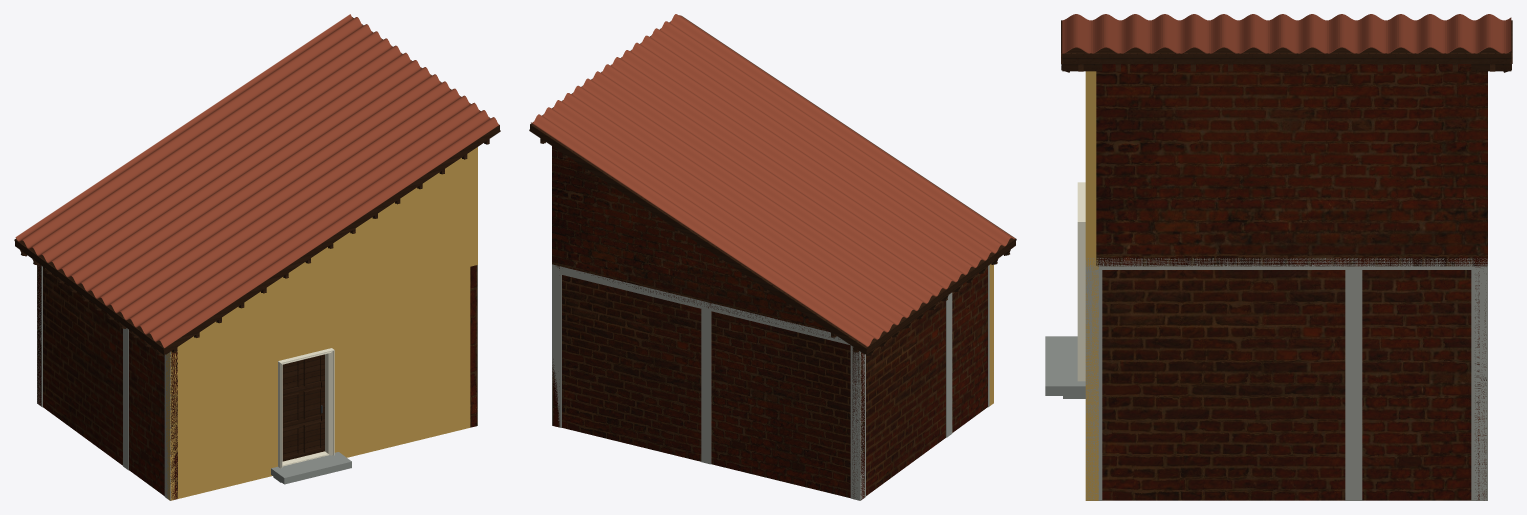
File: building.glb
The picture shows the model from 3 angles, left to right: view 1: azimuth 30°, elevation 25°; view 2: azimuth 150°, elevation 25°; view 3: azimuth 270°, elevation 25°; orthographic projection. The views are drawn at different scales.
Parts seen in each view (by area): view 1: house:0/edge0/z0/house:0/edge0/z0/wall_0_0, roof_assembly/cubierta/roof_gable_closure#0001, house:0/edge3/z0/house:0/edge3/z0/wall_0_0, roof_assembly/cubierta/roof_fascia#0002, site/entrance/0/entrance_step#0002, house:0/edge1/z0/house:0/edge1/z0/wall_0_0, roof_assembly/cubierta/roof_fascia#0001, house:0/edge3/z0/house:0/edge3/z0/column_1_0, house:0/edge3/z0/house:0/edge3/z0/column_2_0, house:0/edge0/z0/opening_u2.80_v0.12/door_panel_back#0001, house:0/edge0/z0/opening_u2.80_v0.12/door_reveal#0001, house:0/edge2/z0/house:0/edge2/z0/wall_0_0 (+2 smaller); view 2: house:0/edge2/z0/house:0/edge2/z0/wall_0_0, house:0/edge3/z0/house:0/edge3/z0/wall_0_0, roof_assembly/cubierta/roof_gable_closure#0003, roof_assembly/cubierta/roof_fascia#0004, house:0/edge2/z0/house:0/edge2/z0/beam_0_0, house:0/edge2/z0/house:0/edge2/z0/column_2_0, house:0/edge2/z0/house:0/edge2/z0/column_1_0, house:0/edge2/z0/house:0/edge2/z0/column_0_0, roof_assembly/cubierta/roof_fascia#0001, house:0/edge3/z0/house:0/edge3/z0/column_2_0, roof_assembly/cubierta/roof_substrate#0001, roof_assembly/cubierta/roof_gable_closure#0002 (+2 smaller); view 3: house:0/edge1/z0/house:0/edge1/z0/wall_0_0, roof_assembly/cubierta/roof_gable_closure#0002, roof_assembly/cubierta/roof_fascia#0003, house:0/edge1/z0/house:0/edge1/z0/column_2_0, house:0/edge1/z0/house:0/edge1/z0/beam_0_0, house:0/edge1/z0/house:0/edge1/z0/column_1_0, house:0/edge1/z0/house:0/edge1/z0/column_0_0, house:0/edge0/z0/house:0/edge0/z0/wall_0_0, roof_assembly/cubierta/roof_gable_closure#0001, site/entrance/0/entrance_step#0002, house:0/edge0/z0/opening_u2.80_v0.12/door_moulding#0028, roof_assembly/cubierta/roof_substrate#0001 (+1 smaller).
Boxes of the visible parts, bbox=[...] form: house:0/edge0/z0/house:0/edge0/z0/wall_0_0: bbox=[165, 269, 470, 500]; roof_assembly/cubierta/roof_gable_closure#0001: bbox=[189, 147, 477, 340]; house:0/edge3/z0/house:0/edge3/z0/wall_0_0: bbox=[43, 267, 177, 500]; roof_assembly/cubierta/roof_fascia#0002: bbox=[163, 126, 500, 354]; site/entrance/0/entrance_step#0002: bbox=[271, 452, 351, 484]; house:0/edge1/z0/house:0/edge1/z0/wall_0_0: bbox=[470, 265, 477, 427]; roof_assembly/cubierta/roof_fascia#0001: bbox=[15, 239, 165, 354]; house:0/edge3/z0/house:0/edge3/z0/column_1_0: bbox=[164, 352, 170, 500]; house:0/edge3/z0/house:0/edge3/z0/column_2_0: bbox=[123, 328, 128, 470]; house:0/edge0/z0/opening_u2.80_v0.12/door_panel_back#0001: bbox=[282, 359, 320, 453]; house:0/edge0/z0/opening_u2.80_v0.12/door_reveal#0001: bbox=[278, 348, 331, 466]; house:0/edge2/z0/house:0/edge2/z0/wall_0_0: bbox=[37, 264, 41, 405]; house:0/edge2/z0/house:0/edge2/z0/wall_0_0: bbox=[562, 275, 864, 499]; house:0/edge3/z0/house:0/edge3/z0/wall_0_0: bbox=[852, 266, 987, 498]; roof_assembly/cubierta/roof_gable_closure#0003: bbox=[558, 150, 840, 339]; roof_assembly/cubierta/roof_fascia#0004: bbox=[529, 125, 867, 354]; house:0/edge2/z0/house:0/edge2/z0/beam_0_0: bbox=[552, 264, 849, 344]; house:0/edge2/z0/house:0/edge2/z0/column_2_0: bbox=[701, 309, 711, 464]; house:0/edge2/z0/house:0/edge2/z0/column_1_0: bbox=[850, 345, 860, 500]; house:0/edge2/z0/house:0/edge2/z0/column_0_0: bbox=[552, 272, 561, 427]; roof_assembly/cubierta/roof_fascia#0001: bbox=[865, 239, 1015, 354]; house:0/edge3/z0/house:0/edge3/z0/column_2_0: bbox=[946, 292, 952, 437]; roof_assembly/cubierta/roof_substrate#0001: bbox=[530, 124, 1013, 353]; roof_assembly/cubierta/roof_gable_closure#0002: bbox=[552, 146, 557, 265]; house:0/edge1/z0/house:0/edge1/z0/wall_0_0: bbox=[1102, 270, 1471, 500]; roof_assembly/cubierta/roof_gable_closure#0002: bbox=[1096, 64, 1487, 266]; roof_assembly/cubierta/roof_fascia#0003: bbox=[1062, 53, 1511, 63]; house:0/edge1/z0/house:0/edge1/z0/column_2_0: bbox=[1345, 270, 1362, 500]; house:0/edge1/z0/house:0/edge1/z0/beam_0_0: bbox=[1085, 258, 1487, 269]; house:0/edge1/z0/house:0/edge1/z0/column_1_0: bbox=[1471, 270, 1487, 500]; house:0/edge1/z0/house:0/edge1/z0/column_0_0: bbox=[1085, 270, 1102, 500]; house:0/edge0/z0/house:0/edge0/z0/wall_0_0: bbox=[1085, 258, 1098, 500]; roof_assembly/cubierta/roof_gable_closure#0001: bbox=[1085, 71, 1096, 266]; site/entrance/0/entrance_step#0002: bbox=[1045, 336, 1085, 395]; house:0/edge0/z0/opening_u2.80_v0.12/door_moulding#0028: bbox=[1077, 182, 1085, 381]; roof_assembly/cubierta/roof_substrate#0001: bbox=[1066, 47, 1510, 52].
Bounding box in the file's own units: 8.76 × 7.68 × 6.97.
Materials: 8 (2 with a texture image).
